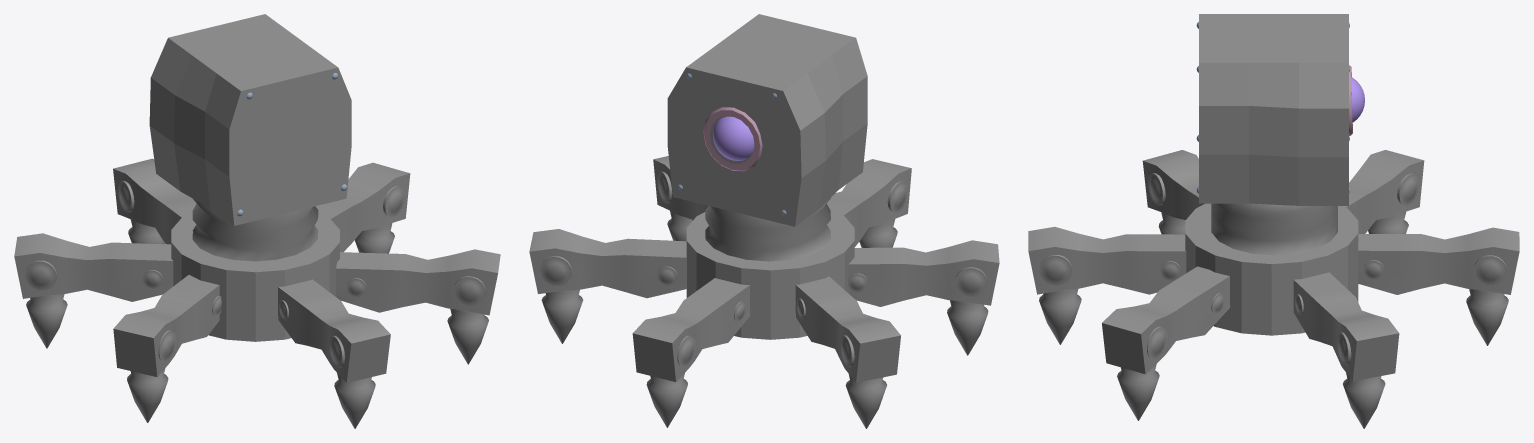
Rendered from green robot.FBX.
3 views of the same model, side by side, from view 1: azimuth 30°, elevation 25°; view 2: azimuth 150°, elevation 25°; view 3: azimuth 270°, elevation 25° (orthographic). The views are drawn at different scales.
Visible parts, largest first — view 1: legs (×6), head, body, neck; view 2: legs (×6), head, body, neck, Sphere009, eye ring; view 3: legs (×6), head, body, neck.
Part boxes in pixels (left/top/right/bottom): legs (×6): left=14, top=158, right=500, bottom=428; head: left=149, top=14, right=351, bottom=225; body: left=171, top=212, right=339, bottom=341; neck: left=192, top=199, right=318, bottom=261; legs (×6): left=529, top=156, right=999, bottom=428; head: left=667, top=14, right=867, bottom=226; body: left=686, top=209, right=854, bottom=339; neck: left=705, top=198, right=830, bottom=261; Sphere009: left=713, top=116, right=754, bottom=160; eye ring: left=703, top=107, right=762, bottom=171; legs (×6): left=1028, top=150, right=1519, bottom=428; head: left=1199, top=14, right=1348, bottom=205; body: left=1185, top=203, right=1358, bottom=335; neck: left=1211, top=203, right=1337, bottom=255.
Bounding box in the file's own units: 149 × 112 × 162.
